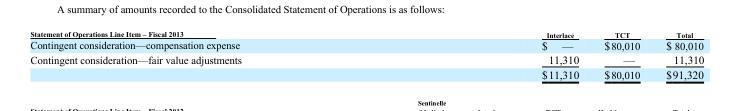table: (29, 29, 703, 80)
table column: (29, 29, 391, 80), (391, 29, 590, 80), (590, 29, 652, 80), (652, 29, 703, 80)
table column header: (29, 29, 703, 38)
table row: (29, 38, 703, 52), (29, 52, 703, 66), (29, 66, 703, 80), (29, 29, 703, 38)
